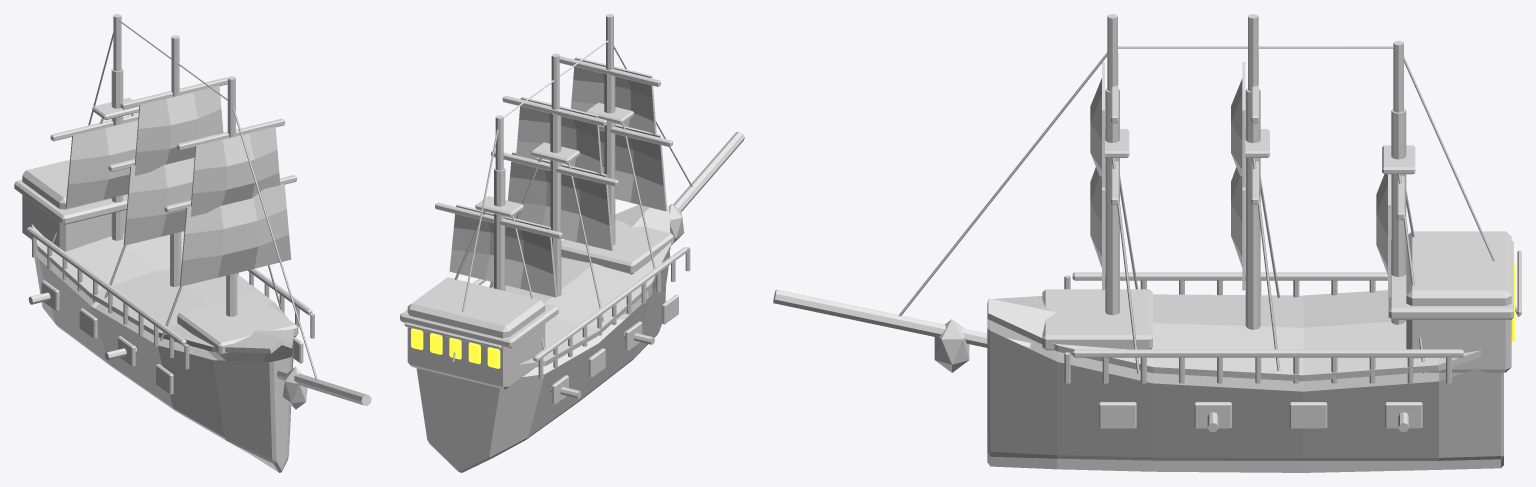
Rendered from player_tier_3_v03.fbx.
3 views of the same model, side by side, from view 1: azimuth 30°, elevation 25°; view 2: azimuth 150°, elevation 25°; view 3: azimuth 270°, elevation 25° (orthographic). The views are drawn at different scales.
Visible parts, largest first — view 1: Tier_3_Lofted_Hull, Tier_3_Lofted_Deck, Sail_1_1, Sail_1_2, Sail_2_2, Sail_3_1, Sail_2_1, Stern_GreatCabin, Forecastle_Deck, Stern_Quarterdeck, Tier_3_Starboard_TopRail, Bowsprit_Main (+15 smaller); view 2: Tier_3_Lofted_Hull, Stern_GreatCabin, Tier_3_Lofted_Deck, Sail_2_1, Sail_3_1, Sail_1_1, Sail_2_2, Sail_1_2, Forecastle_Deck, Mast_2_Lower, Stern_Quarterdeck, Mast_1_Lower (+21 smaller); view 3: Tier_3_Lofted_Hull, Tier_3_Lofted_Deck, Stern_GreatCabin, Forecastle_Deck, Tier_3_Port_TopRail, Mast_2_Lower, Bowsprit_Main, Mast_1_Lower, Stern_Quarterdeck, Tier_3_Starboard_TopRail, Mast_3_Lower, Sail_2_2 (+15 smaller).
Part boxes in pixels (x1,y1,x2,y2): Tier_3_Lofted_Hull: (31, 240, 293, 472); Tier_3_Lofted_Deck: (31, 224, 294, 353); Sail_1_1: (179, 184, 291, 286); Sail_1_2: (191, 126, 280, 216); Sail_2_2: (134, 85, 223, 175); Sail_3_1: (65, 120, 138, 208); Sail_2_1: (123, 157, 194, 245); Stern_GreatCabin: (22, 159, 127, 251); Forecastle_Deck: (177, 294, 298, 354); Stern_Quarterdeck: (14, 179, 127, 224); Tier_3_Starboard_TopRail: (26, 227, 186, 345); Bowsprit_Main: (276, 368, 371, 405); Tier_3_Lofted_Hull: (416, 251, 669, 472); Stern_GreatCabin: (407, 277, 545, 389); Tier_3_Lofted_Deck: (492, 204, 670, 369); Sail_2_1: (508, 152, 613, 250); Sail_3_1: (449, 204, 556, 297); Sail_1_1: (599, 124, 667, 211); Sail_2_2: (516, 96, 602, 179); Sail_1_2: (571, 57, 656, 139); Forecastle_Deck: (561, 220, 673, 274); Mast_2_Lower: (550, 113, 561, 296); Stern_Quarterdeck: (400, 303, 558, 348); Mast_1_Lower: (604, 73, 615, 245); Tier_3_Lofted_Hull: (987, 319, 1503, 472); Tier_3_Lofted_Deck: (987, 290, 1481, 381); Stern_GreatCabin: (1406, 231, 1511, 372); Forecastle_Deck: (1042, 289, 1152, 350); Tier_3_Port_TopRail: (1072, 349, 1463, 357); Mast_2_Lower: (1245, 88, 1260, 329); Bowsprit_Main: (773, 289, 1030, 348); Mast_1_Lower: (1105, 88, 1119, 315); Stern_Quarterdeck: (1388, 240, 1513, 319); Tier_3_Starboard_TopRail: (1072, 272, 1387, 280); Mast_3_Lower: (1391, 108, 1406, 324); Sail_2_2: (1231, 62, 1245, 187).
Bounding box in the file's own units: 1.45 × 2.97 × 4.42.
